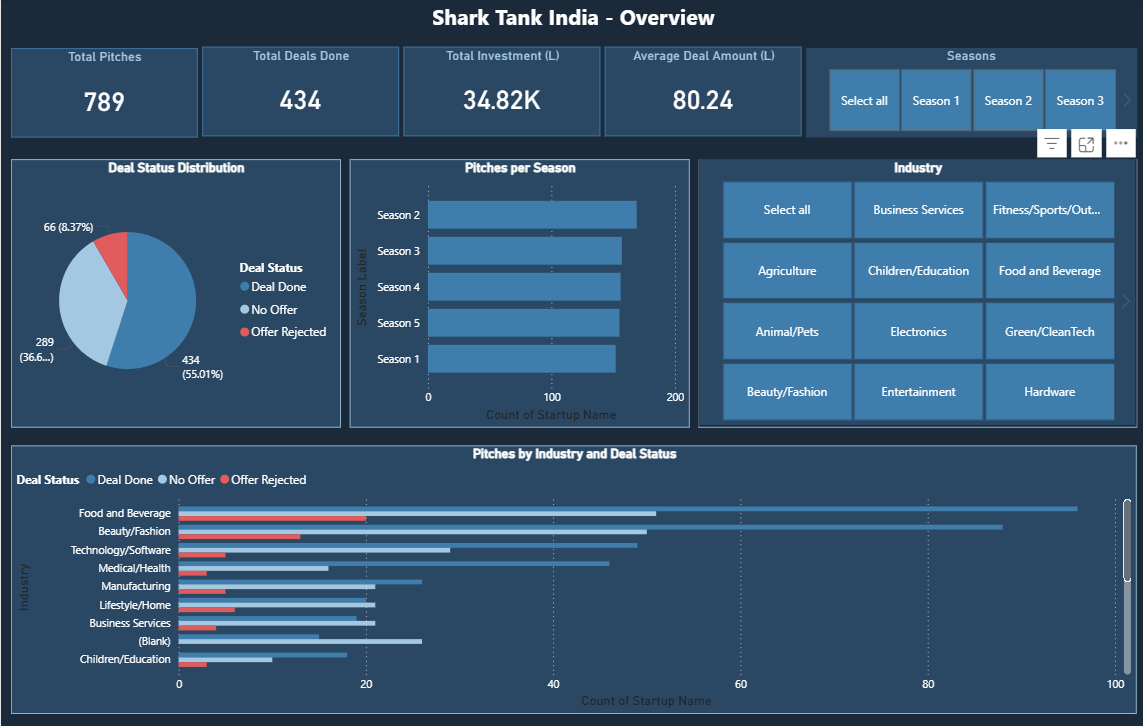

The page's visual inventory and layout, read from the dashboard file:
{"tool":"powerbi","page":{"name":"Overview","canvas":[1280,820],"ordinal":0},"visuals":[{"type":"card","title":"Total Pitches","fields":{"Values":["CountNonNull(Sheet1.Startup Name)"]},"box":[11.4,55.7,208.6,100],"z":0},{"type":"card","title":"Total Deals Done","fields":{"Values":["Sum(Sheet1.Accepted Offer)"]},"box":[225,55,220,100],"z":1000},{"type":"card","title":"Total Investment (L)","fields":{"Values":["Sum(Sheet1.Total Deal Amount)"]},"box":[450,55,220,100],"z":2000},{"type":"card","title":"Average Deal Amount (L)","fields":{"Values":["Avg(Sheet1.Total Deal Amount)"]},"box":[675,55,220,100],"z":3000},{"type":"pieChart","title":"Deal Status Distribution","fields":{"Category":["Sheet1.Deal Status"],"Y":["CountNonNull(Sheet1.Startup Name)"]},"box":[11.4,180,368.6,300],"z":4000},{"type":"clusteredBarChart","title":"Pitches per Season","fields":{"Category":["Sheet1.Season Label"],"Y":["CountNonNull(Sheet1.Startup Name)"]},"box":[390,180,380,300],"z":5000},{"type":"clusteredBarChart","title":"Pitches by Industry and Deal Status ","fields":{"Category":["Sheet1.Industry"],"Y":["CountNonNull(Sheet1.Startup Name)"],"Series":["Sheet1.Deal Status"]},"box":[11.4,500,1258.6,300],"z":6000},{"type":"slicer","title":"Seasons","fields":{"Values":["Sheet1.Season Label"]},"box":[900,55.7,370,100],"z":7000},{"type":"slicer","title":"Industry","fields":{"Values":["Sheet1.Industry"]},"box":[780,180,490,300],"z":8000},{"type":"textbox","box":[0,0,1280.2,50.4],"z":9000}]}

Visuals, with their boxes in screenshot pixels (x1, y1, x2, y2), scaled from the page's 1280x820 canvas onto the 1143x726 screenshot:
"Total Pitches" card: 10 49 196 138
"Total Deals Done" card: 201 49 397 137
"Total Investment (L)" card: 402 49 598 137
"Average Deal Amount (L)" card: 603 49 799 137
"Deal Status Distribution" pieChart: 10 159 339 425
"Pitches per Season" clusteredBarChart: 348 159 688 425
"Pitches by Industry and Deal Status " clusteredBarChart: 10 443 1134 708
"Seasons" slicer: 804 49 1134 138
"Industry" slicer: 697 159 1134 425
textbox: 0 0 1142 45
